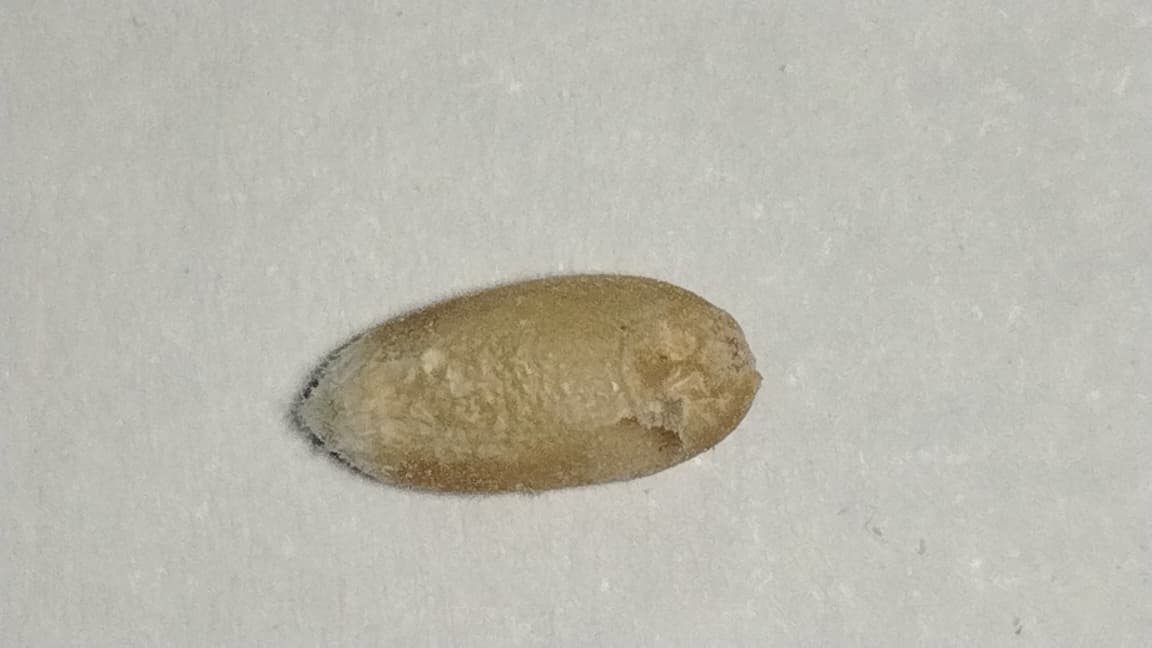damage: (296, 273, 760, 493)
insectdamage: (589, 364, 700, 477)
